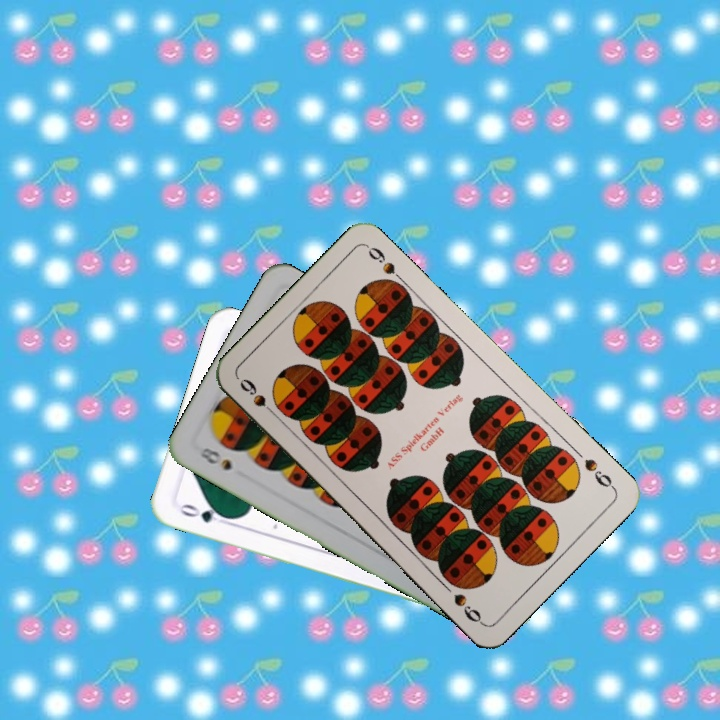GO: (175, 499, 233, 528)
S8: (194, 442, 234, 473)
S9: (235, 374, 282, 421), (580, 454, 618, 492)
